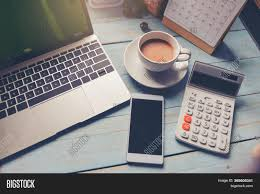Calculator: (175, 61, 246, 158)
